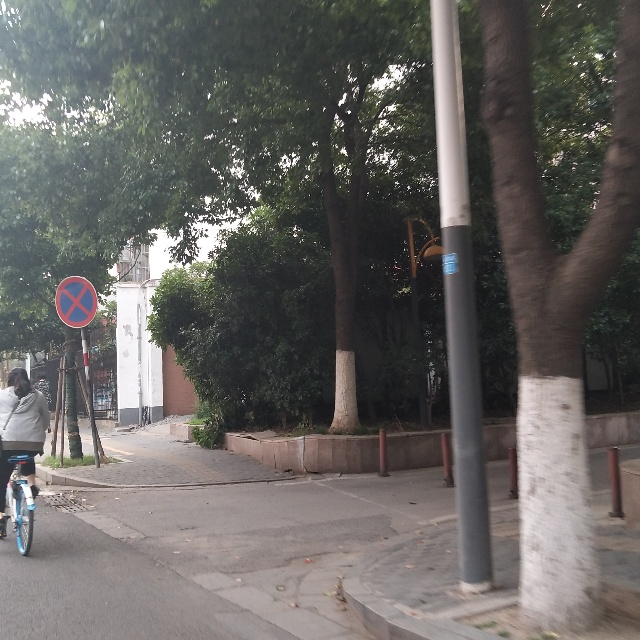stop: (57, 278, 94, 325)
